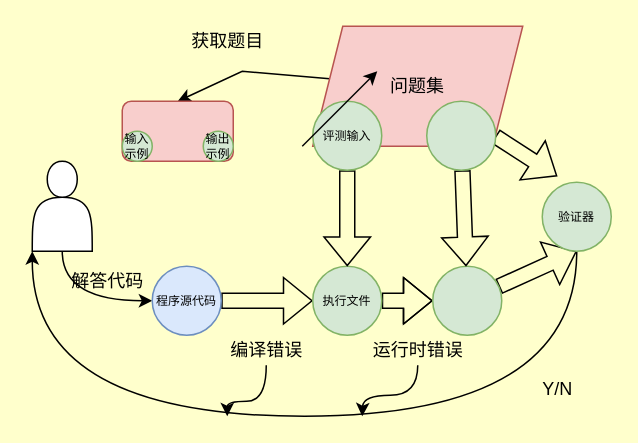
This 638x443 diagram has some shape labels left out. The box of each missing label's shape, as (x1, y1, x2, y2) in pixels:
处理*结果: (431, 265, 502, 335)
用户: (31, 160, 92, 251)
评测输出: (425, 100, 496, 170)
题目: (121, 100, 233, 161)
